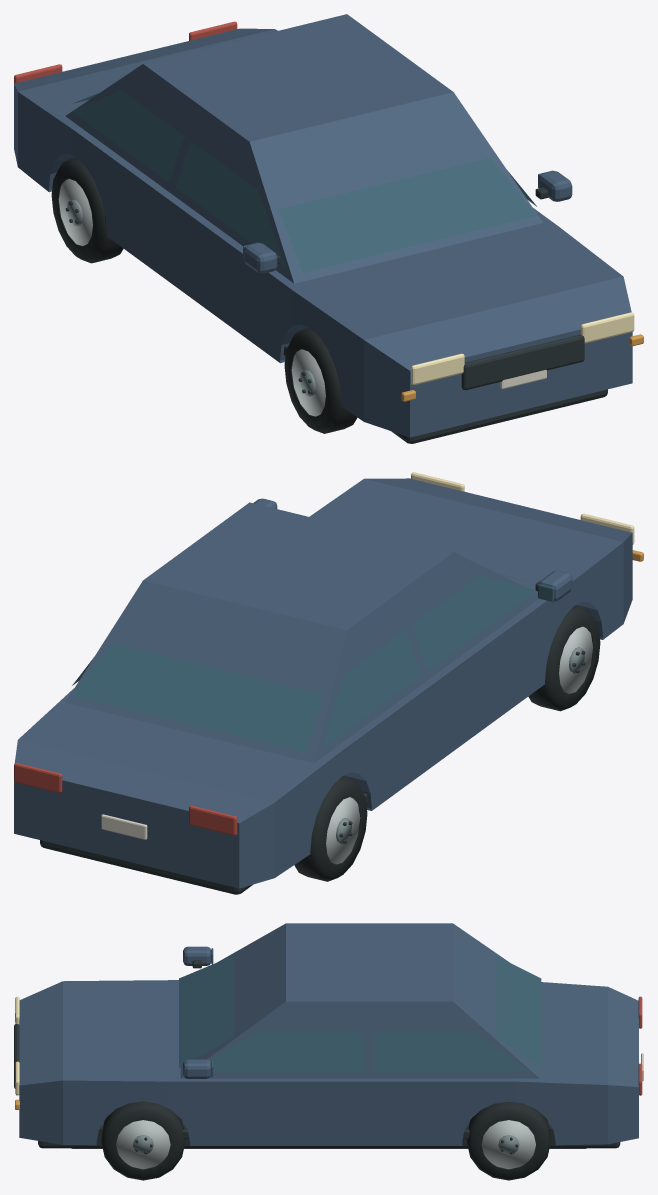
File: original-car-sedan-03.glb
The picture shows the model from 3 angles, top to bottom: view 1: azimuth 30°, elevation 25°; view 2: azimuth 150°, elevation 25°; view 3: azimuth 270°, elevation 25°; orthographic projection. The views are drawn at different scales.
Parts seen in each view (by area): view 1: BodyShell, CabinShell, Windscreen, WindowFront, WindowRear, Grille, Tyre_FR, Tyre_RR, Frame, Rim_FR, Rim_RR, Headlamp (+3 smaller); view 2: BodyShell, CabinShell, RearGlass, WindowFront, WindowRear, Tyre_RR, Tyre_FR, Frame, Rim_RR, Rim_FR, TailLamp, TailLamp.001 (+2 smaller); view 3: BodyShell, CabinShell, WindowFront.001, WindowRear.001, Windscreen, RearGlass, Tyre_FL, Tyre_RL, Frame, Rim_RL, Rim_FL, MirrorHousing.001 (+1 smaller).
Boxes of the visible parts, <box> form: BodyShell: <box>14,28,632,437</box>; CabinShell: <box>65,14,542,283</box>; Windscreen: <box>278,158,536,272</box>; WindowFront: <box>176,141,285,267</box>; WindowRear: <box>72,90,184,182</box>; Grille: <box>461,334,584,390</box>; Tyre_FR: <box>284,328,357,433</box>; Tyre_RR: <box>51,157,123,263</box>; Frame: <box>391,389,607,443</box>; Rim_FR: <box>291,349,325,416</box>; Rim_RR: <box>58,179,92,245</box>; Headlamp: <box>411,353,464,384</box>; BodyShell: <box>14,478,632,888</box>; CabinShell: <box>65,502,538,763</box>; RearGlass: <box>72,643,323,752</box>; WindowFront: <box>412,575,536,670</box>; WindowRear: <box>323,629,420,747</box>; Tyre_RR: <box>294,776,367,881</box>; Tyre_FR: <box>528,605,600,711</box>; Frame: <box>40,840,252,894</box>; Rim_RR: <box>326,797,360,864</box>; Rim_FR: <box>559,626,593,693</box>; TailLamp: <box>189,805,237,835</box>; TailLamp.001: <box>14,763,62,792</box>; BodyShell: <box>19,980,638,1145</box>; CabinShell: <box>180,923,539,1078</box>; WindowFront.001: <box>209,1031,364,1070</box>; WindowRear.001: <box>374,1031,527,1070</box>; Windscreen: <box>179,955,234,1067</box>; RearGlass: <box>496,956,541,1067</box>; Tyre_FL: <box>101,1101,185,1180</box>; Tyre_RL: <box>467,1101,550,1180</box>; Frame: <box>38,1118,620,1148</box>; Rim_RL: <box>481,1120,535,1169</box>; Rim_FL: <box>116,1120,170,1169</box>; MirrorHousing.001: <box>183,1059,211,1078</box>.
Size of the model in its own units: 2.21 by 1.45 by 4.88.
